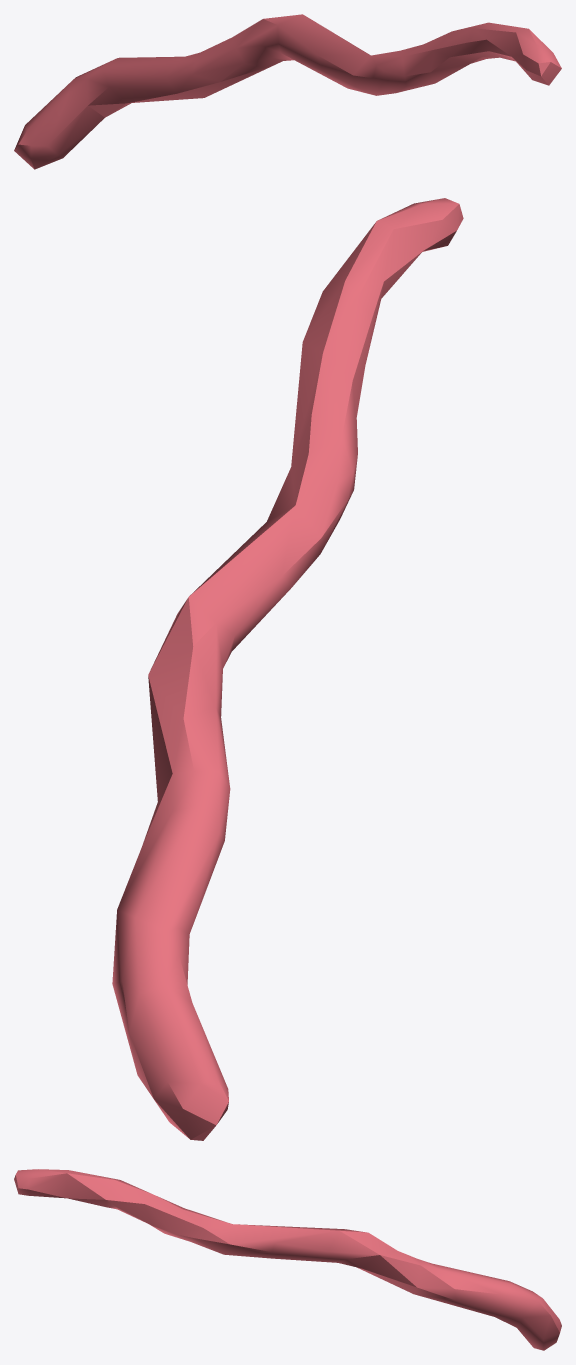
Rendered from fma4712_fj2702.glb.
3 views of the same model, one above another, from view 1: azimuth 30°, elevation 25°; view 2: azimuth 150°, elevation 25°; view 3: azimuth 270°, elevation 25° (orthographic). The views are drawn at different scales.
Parts seen in each view (by area): view 1: FMA4712_FJ2702; view 2: FMA4712_FJ2702; view 3: FMA4712_FJ2702.
Part boxes in pixels (bbox=[...]): FMA4712_FJ2702: bbox=[14, 14, 561, 169]; FMA4712_FJ2702: bbox=[112, 198, 463, 1140]; FMA4712_FJ2702: bbox=[14, 1169, 561, 1350].
Bounding box in the file's own units: 0.00408 × 0.00564 × 0.0113.
